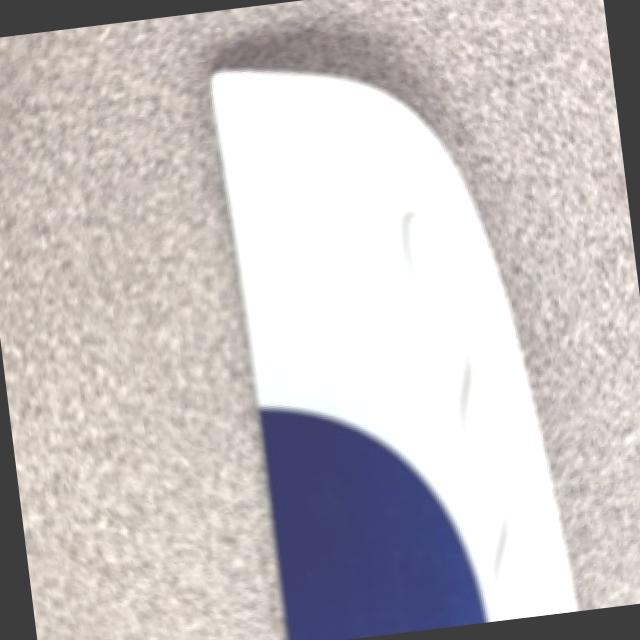healthy: (213, 68, 577, 640)
